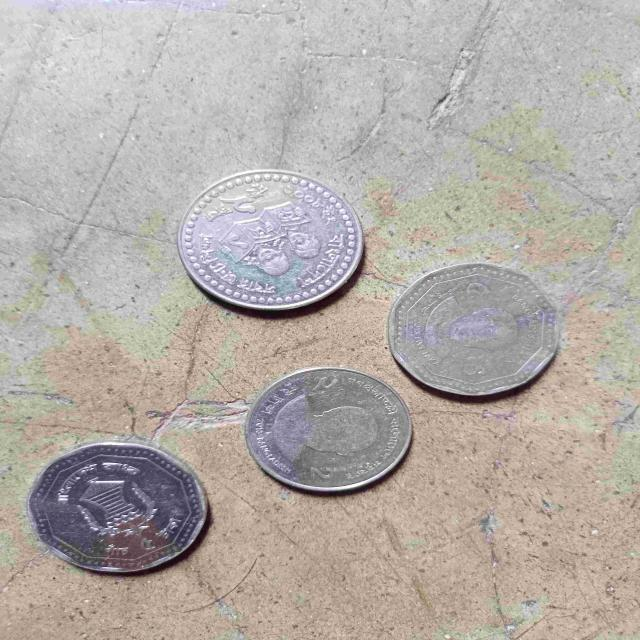2_taka: (176, 170, 370, 318), (235, 360, 420, 501)
5_taka: (18, 442, 219, 584), (392, 255, 576, 405)
